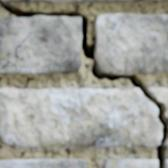brick: (0, 16, 81, 75), (95, 15, 167, 74), (0, 159, 86, 167), (1, 0, 167, 3)
broken_brick: (0, 88, 161, 146), (147, 88, 167, 120), (104, 159, 157, 167), (164, 160, 167, 167), (164, 139, 167, 145)
crack: (0, 0, 167, 167), (16, 32, 30, 61), (0, 61, 17, 69)
